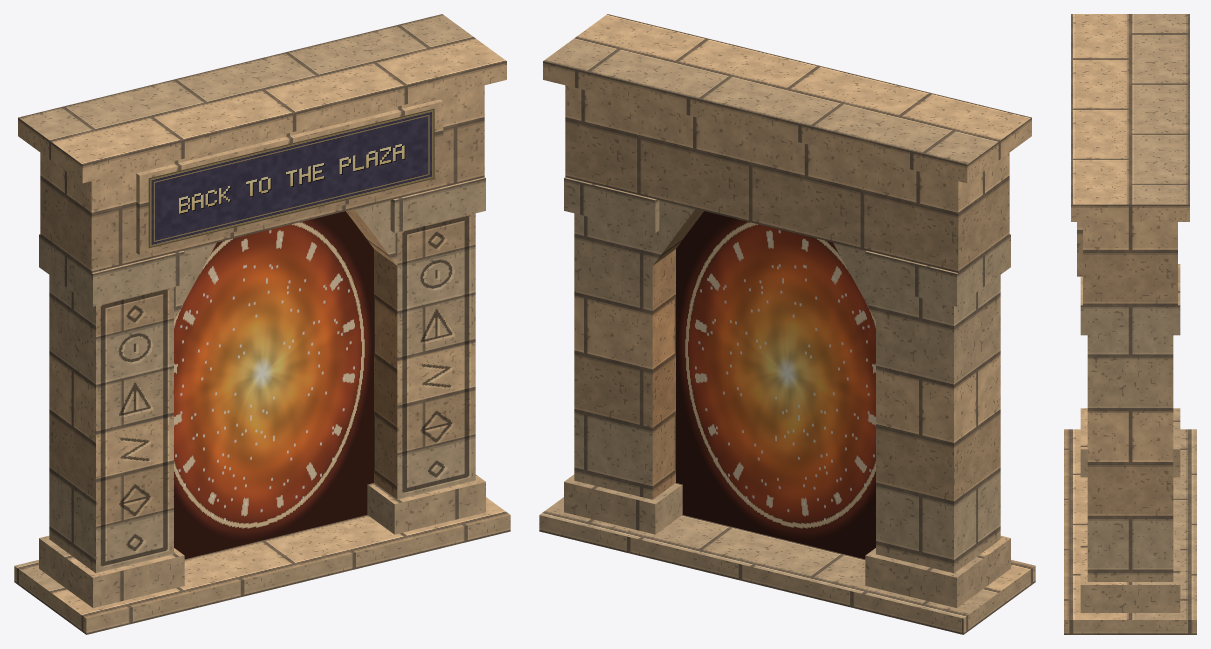
The model's file is townPortal.glb.
The picture shows the model from 3 angles, left to right: view 1: azimuth 30°, elevation 25°; view 2: azimuth 150°, elevation 25°; view 3: azimuth 270°, elevation 25°; orthographic projection. The views are drawn at different scales.
Visible parts, largest first — view 1: townPortal; view 2: townPortal; view 3: townPortal.
Boxes of the visible parts, box(x1,y1,x2,y2) form: townPortal: box(14, 14, 510, 634); townPortal: box(539, 14, 1035, 634); townPortal: box(1064, 14, 1196, 634).
Size of the model in its own units: 1.9 by 2 by 0.56.
5 materials, 5 textured.
